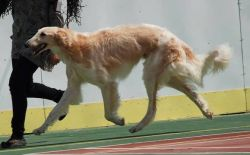borzoi: (18, 25, 235, 137)
